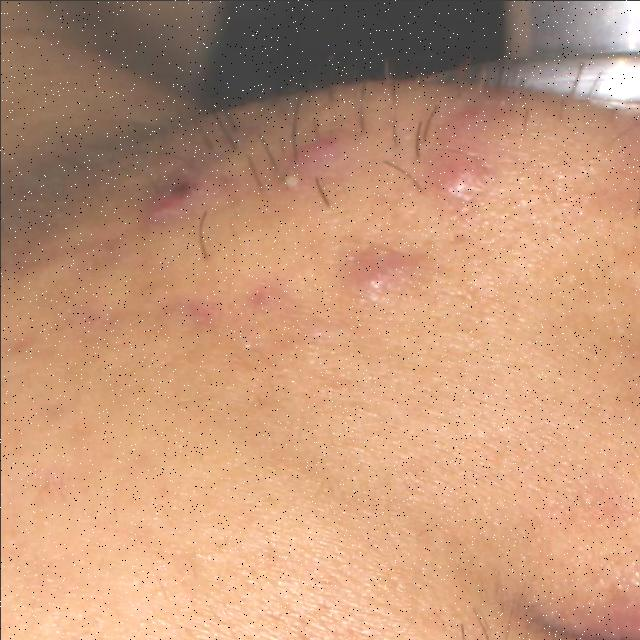nodules: (418, 70, 526, 224), (118, 151, 235, 229), (328, 243, 452, 316)
